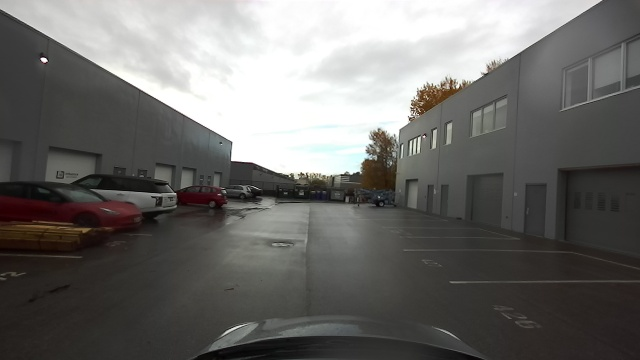car: (4, 181, 139, 228), (90, 170, 176, 220), (178, 179, 225, 211), (229, 182, 260, 202)
